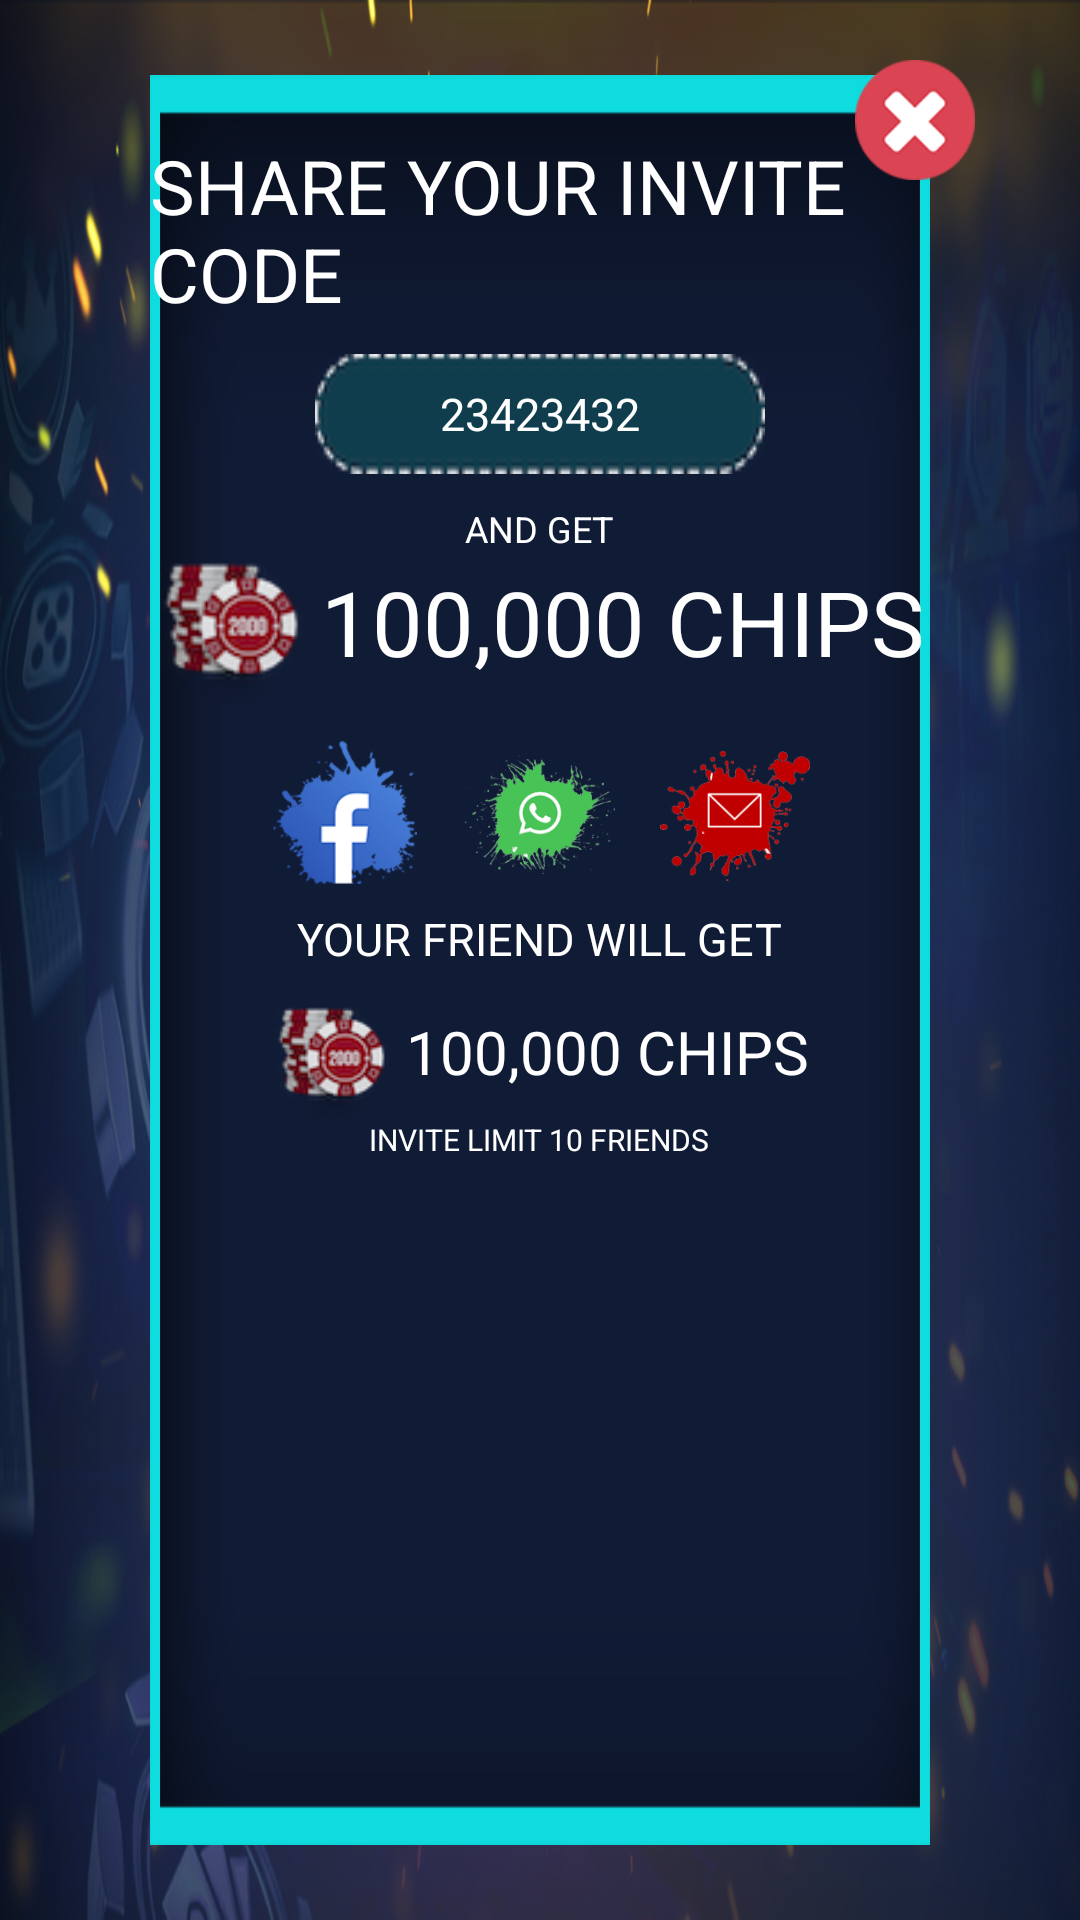

Icon click points for this 1080w x 1920h phone screenshot, format [x,y]:
close: [915,120]
invitechips: [232,618], [332,1052]
mailsocial: [735,816]
